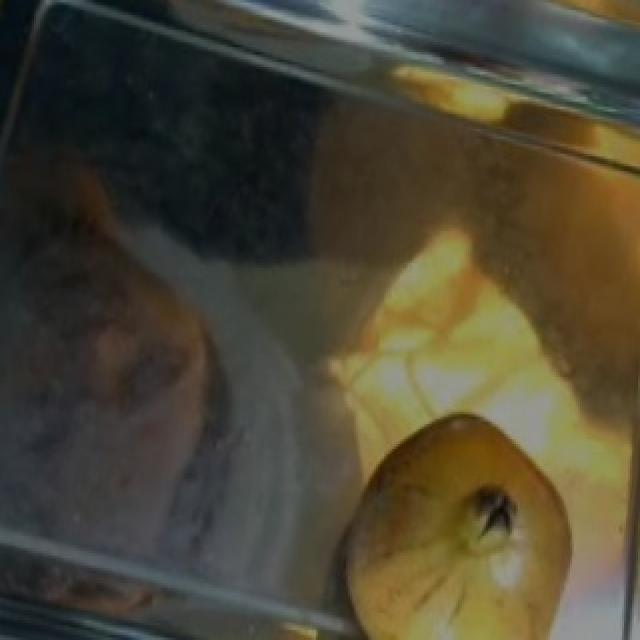fruit: (312, 382, 594, 640), (498, 0, 640, 52)
